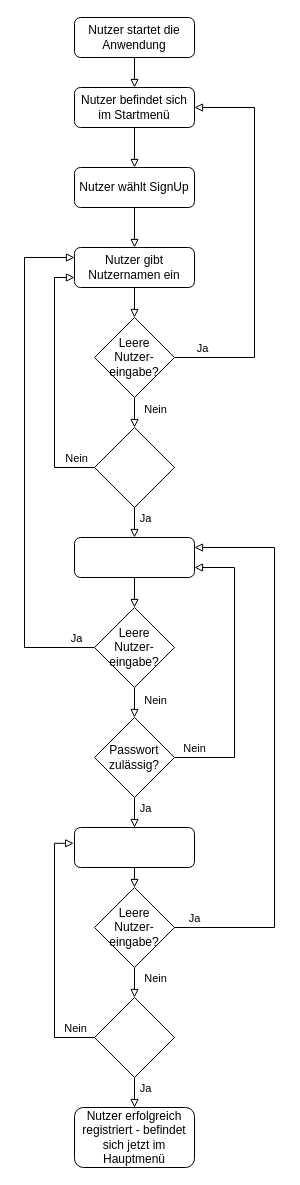
Image size: 300x1185. Some labels were removed from this diagram. Here are the shapes that lost their labels. From the top down, the centre of each, then its label:
At (134,467): "Zulässiger Benutzer-name?".
At (134,557): "Nutzer gibt Passwort ein".
At (134,847): "Nutzer gibt Passwort erneut ein".
At (134,1037): "Passwort korrekt?".
